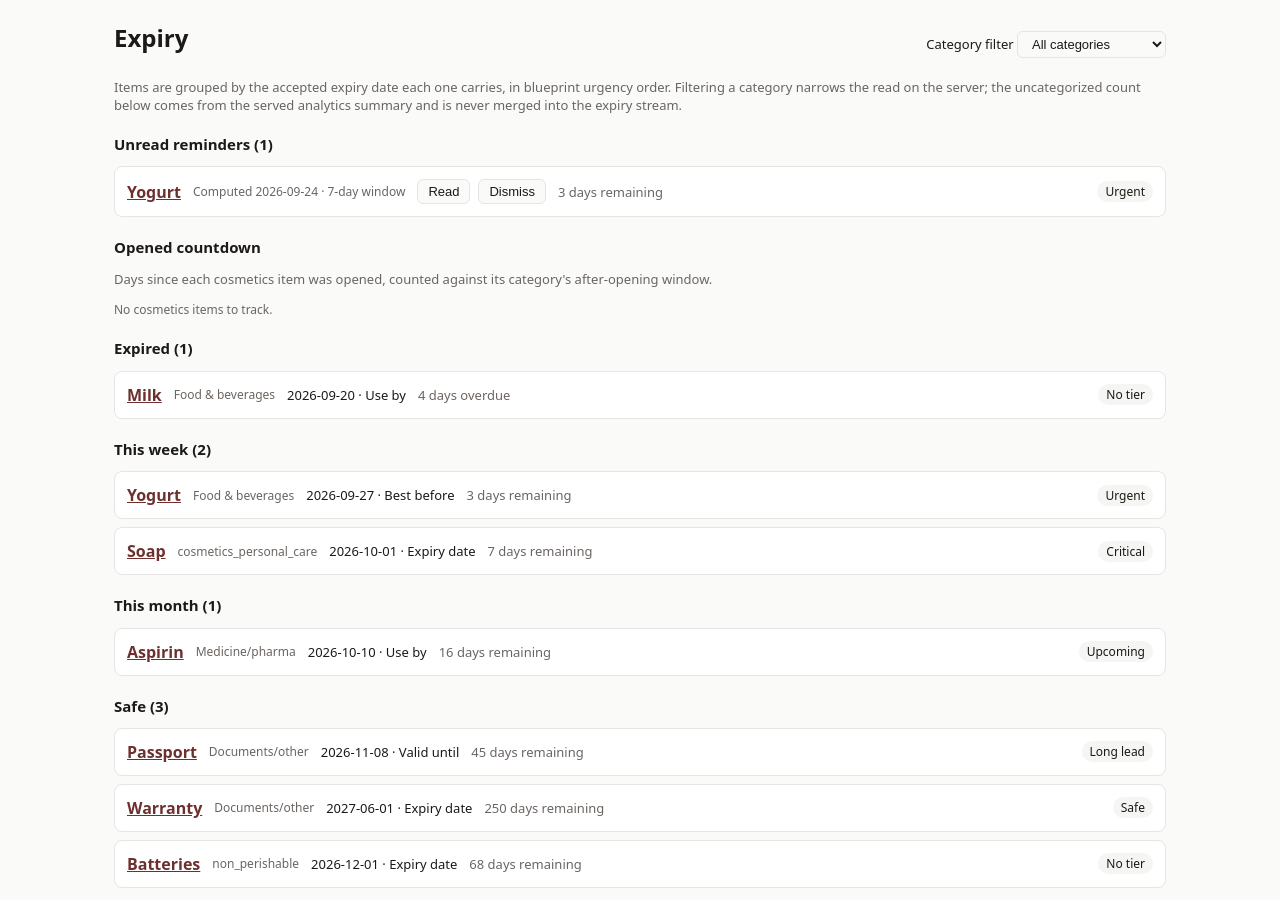
Test case: ExpiryPage reminder actions (SG-235) › a 422 shows an error and leaves the server row in place
Click the button with aria-label "Read reminder r1" at (444,192), box [417, 179, 470, 204]
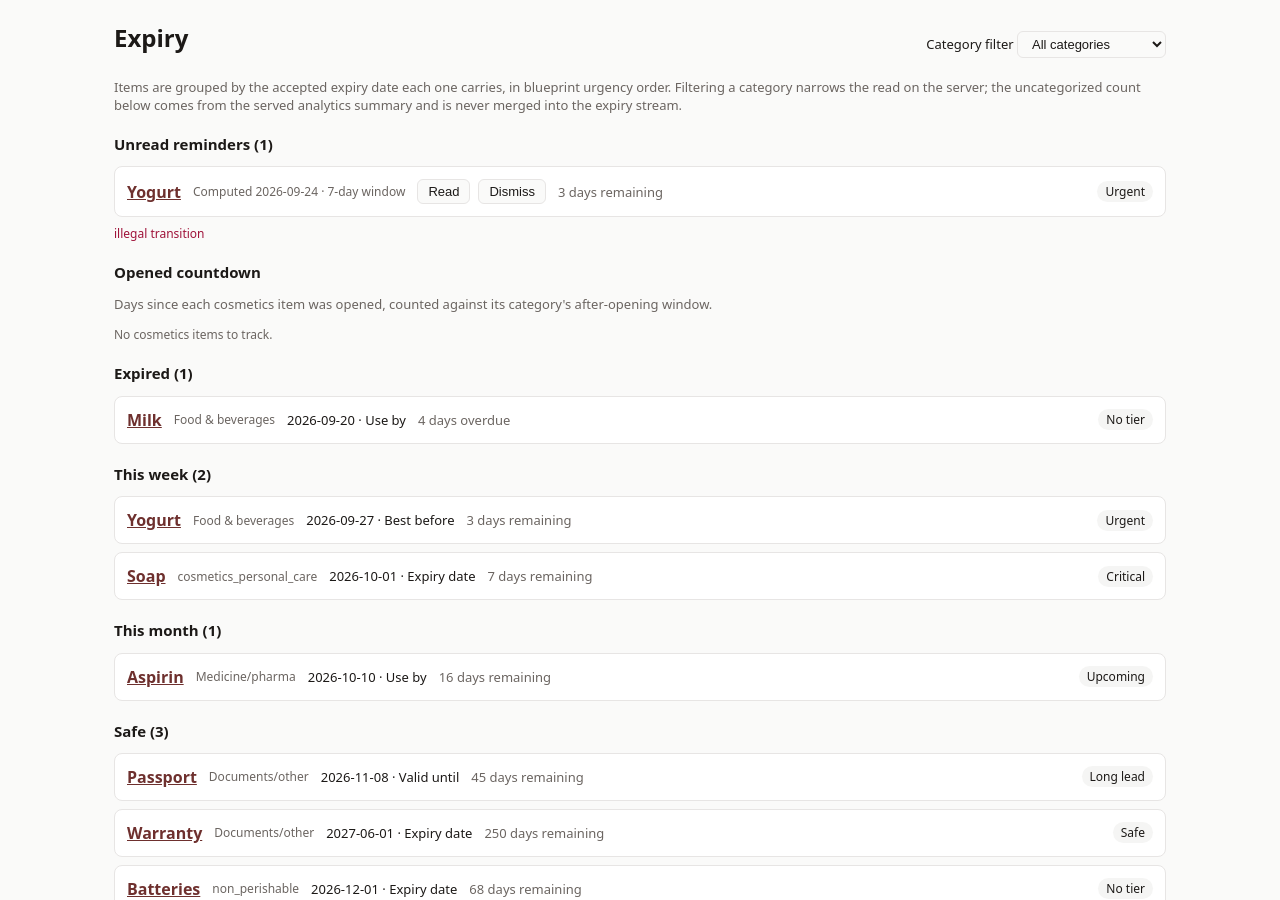
Check: the heading "Unread reminders (1)" is shown, box [114, 134, 273, 154]
Check: the message "illegal transition" is shown, box [114, 225, 204, 242]
